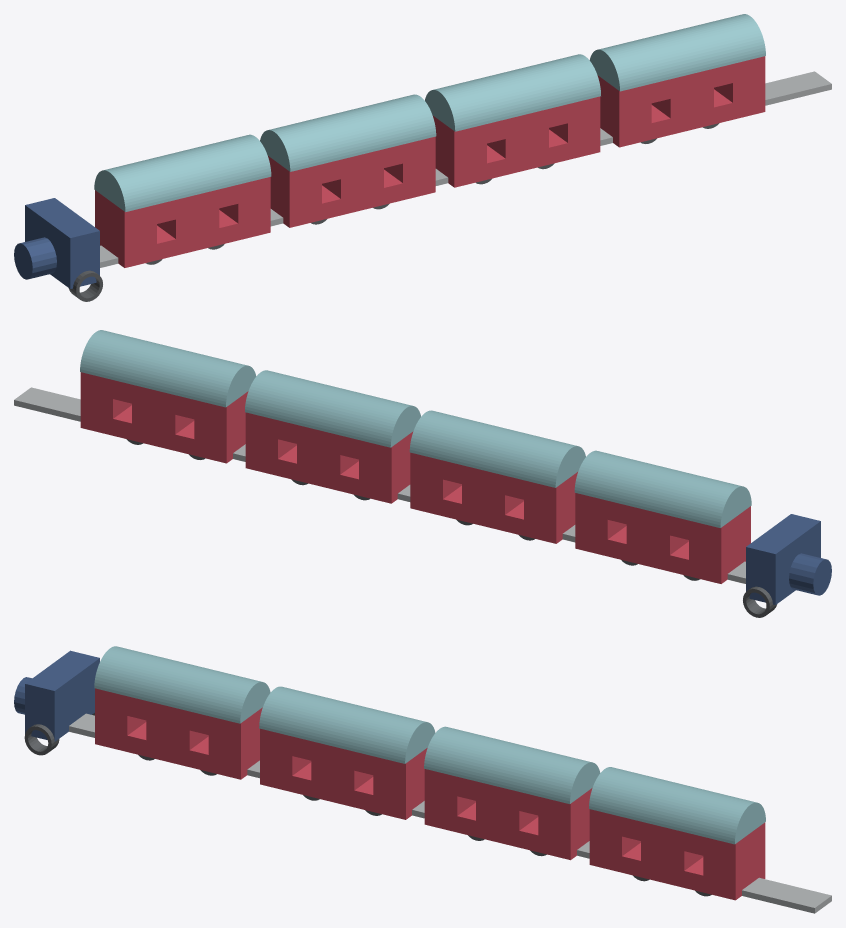
File: Magnificent Gogo.glb
The picture shows the model from 3 angles, top to bottom: view 1: azimuth 30°, elevation 25°; view 2: azimuth 150°, elevation 25°; view 3: azimuth 330°, elevation 25°; orthographic projection.
Visible parts, largest first — view 1: Mesh_Mesh_head_geo.001_lambert2SG.001; view 2: Mesh_Mesh_head_geo.001_lambert2SG.001; view 3: Mesh_Mesh_head_geo.001_lambert2SG.001.
Part boxes in pixels (bbox=[...]): Mesh_Mesh_head_geo.001_lambert2SG.001: bbox=[14, 14, 831, 301]; Mesh_Mesh_head_geo.001_lambert2SG.001: bbox=[14, 330, 831, 617]; Mesh_Mesh_head_geo.001_lambert2SG.001: bbox=[14, 646, 831, 913].
Size of the model in its own units: 296 by 35 by 33.
